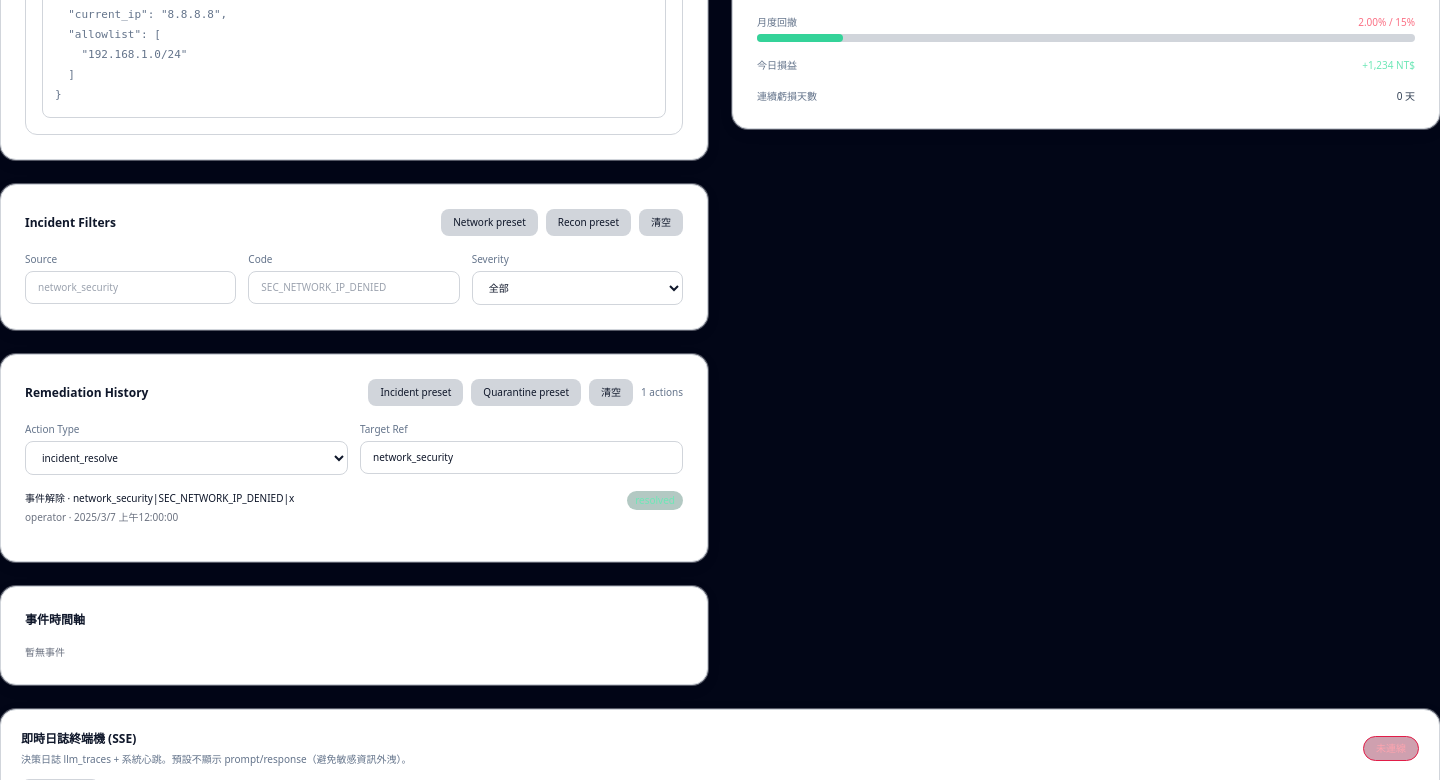
SystemPage › resets remediation filters
(page scrolled)
Click the button "清空" in the row of "Remediation History" at (611, 392), box [589,379,633,406]
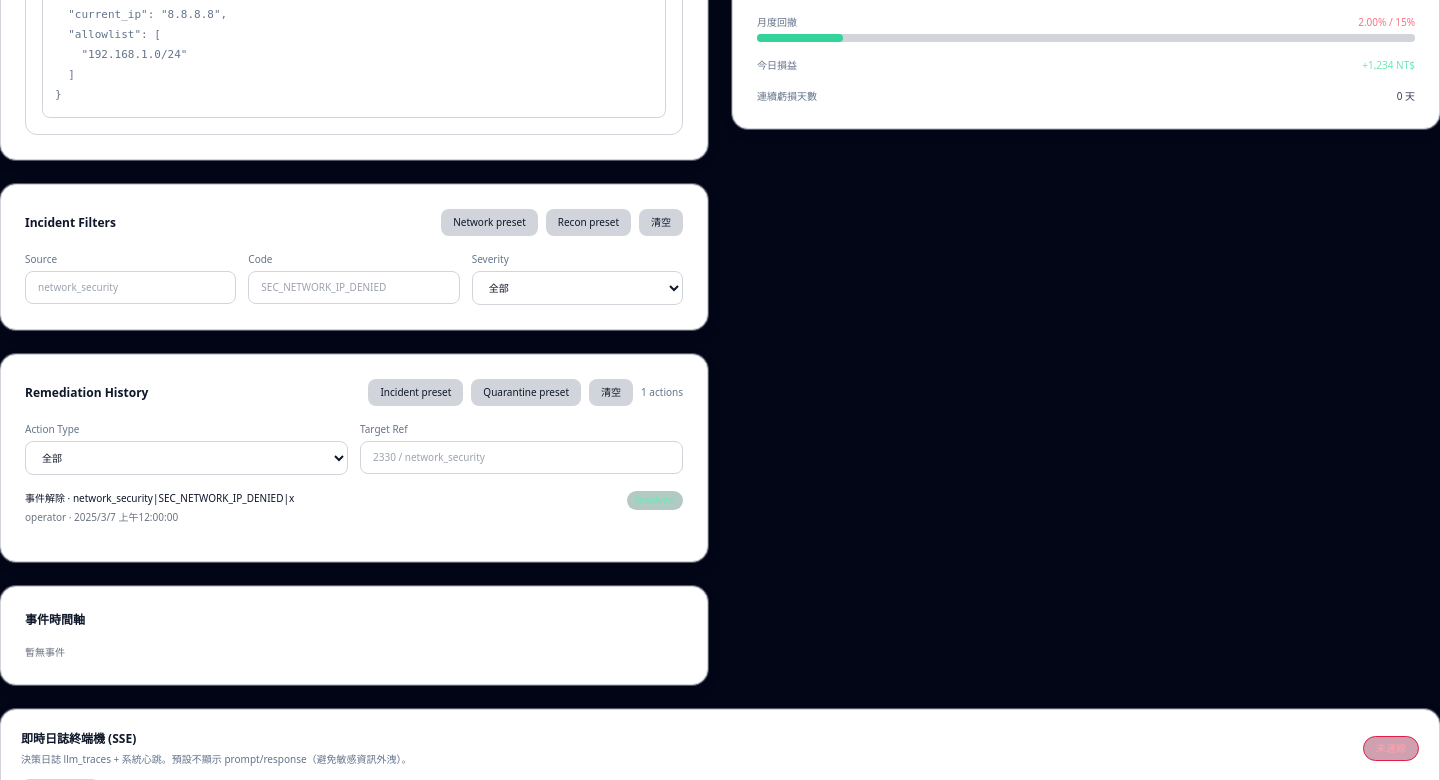
Check: the dropdown labelled "Action Type" shows "全部", box [25,441,348,475]
Check: the field with placeholder "2330 / network_security" is empty, box [360,441,683,474]
